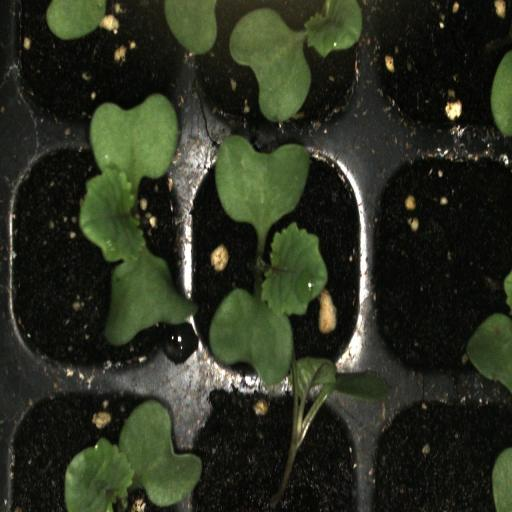Folha: (229, 0, 378, 123), (64, 398, 202, 512), (163, 0, 220, 56)
Germinacao: (190, 142, 369, 390), (9, 138, 189, 378), (189, 378, 363, 512)
